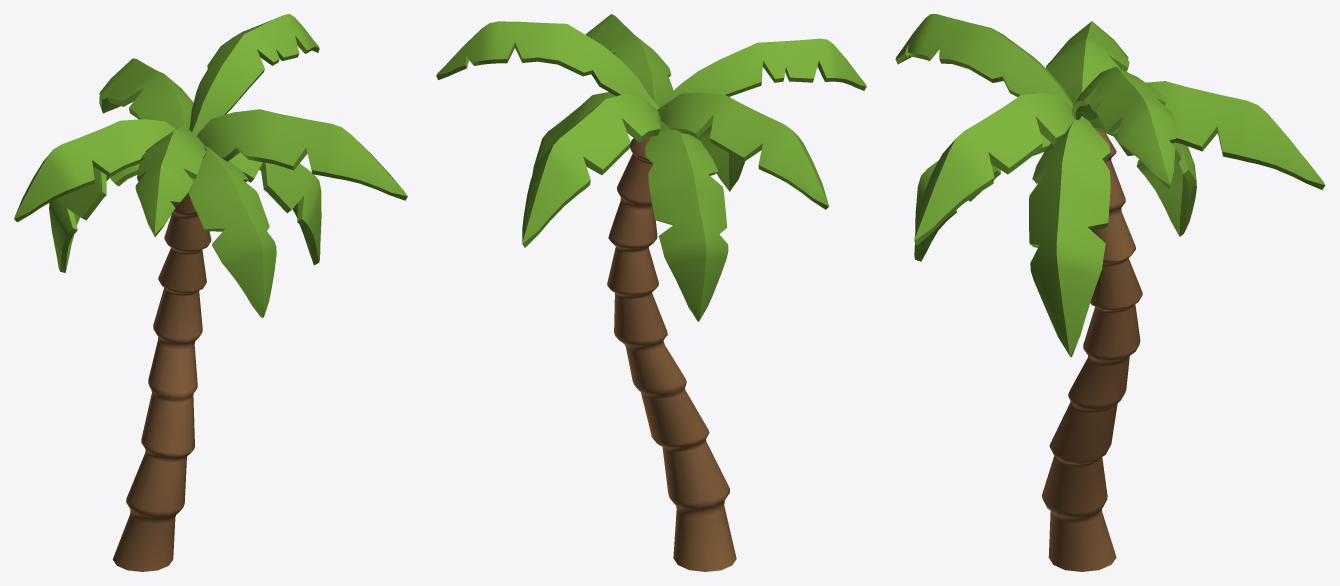
Rendered from Environment_PalmTree_1.gltf.
3 views of the same model, side by side, from view 1: azimuth 30°, elevation 25°; view 2: azimuth 150°, elevation 25°; view 3: azimuth 270°, elevation 25° (orthographic). The views are drawn at different scales.
Parts seen in each view (by area): view 1: Environment_PalmTree_1; view 2: Environment_PalmTree_1; view 3: Environment_PalmTree_1.
Boxes of the visible parts, left/top/right/bottom form: Environment_PalmTree_1: left=14, top=14, right=407, bottom=571; Environment_PalmTree_1: left=436, top=14, right=866, bottom=571; Environment_PalmTree_1: left=895, top=14, right=1325, bottom=571.
Bounding box in the file's own units: 2.61 × 3.59 × 2.52.
1 material, 1 textured.
